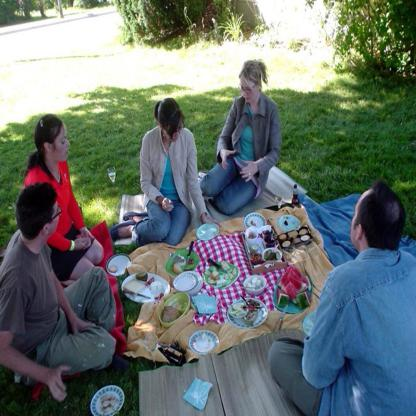face: (351, 198, 369, 248), (54, 130, 71, 163), (242, 78, 258, 103), (50, 204, 60, 237), (172, 123, 183, 142)
